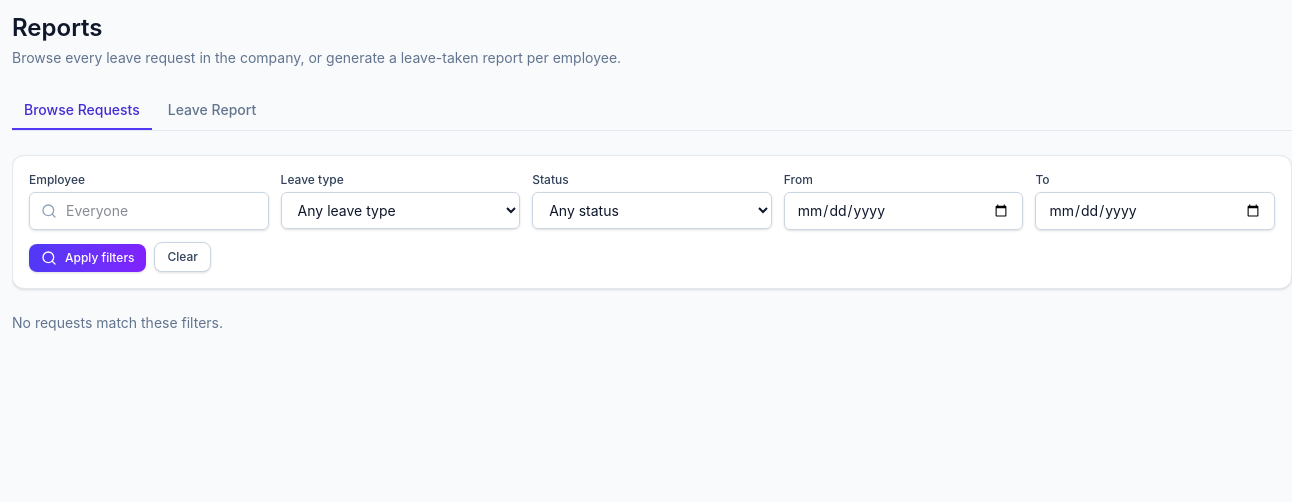
it: HrReportsPage › Browse Requests tab › shows each result's role and email so same-named employees are distinguishable
Click the dropdown labelled "Employee" at (149, 211), box [29,192,269,230]
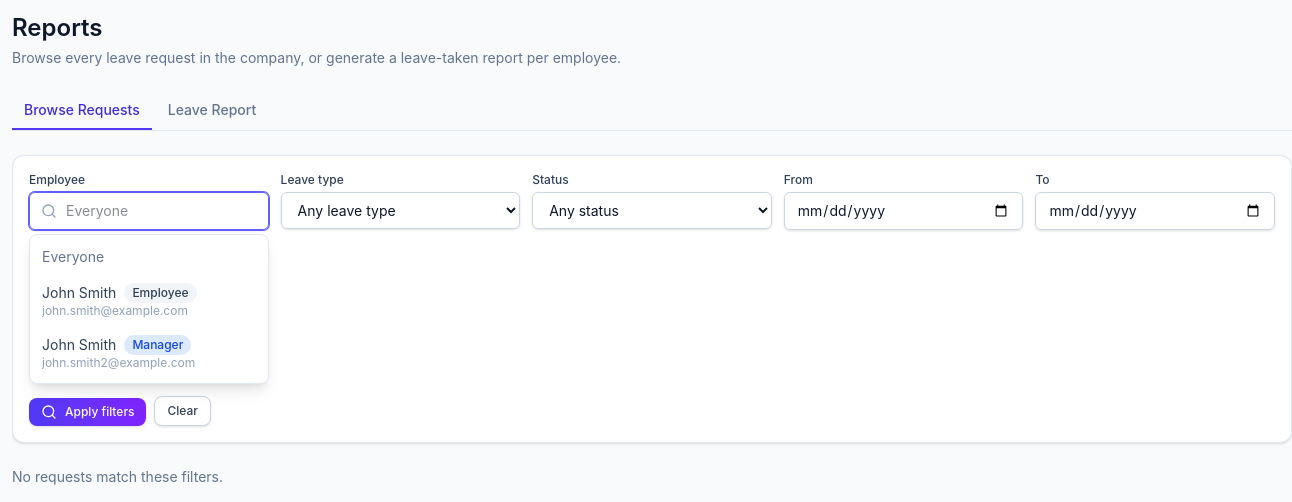
Expected: the button "John Smith Employee john.smith@example.com" is shown, [30,275,268,327]
Expected: the button "John Smith Manager john.smith2@example.com" is shown, [30,327,268,379]
